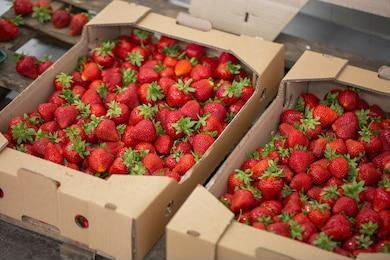Fresa: (353, 203, 384, 236), (308, 102, 341, 131), (163, 81, 196, 109), (92, 116, 122, 146), (125, 101, 157, 129), (40, 139, 68, 170), (333, 109, 361, 140), (12, 52, 41, 81), (129, 117, 160, 144), (286, 146, 312, 177), (66, 10, 95, 37), (190, 129, 217, 158), (87, 145, 114, 174), (228, 185, 257, 212), (330, 192, 357, 221), (114, 85, 143, 111), (337, 84, 363, 113), (327, 153, 352, 183), (51, 104, 79, 128), (341, 137, 366, 162), (134, 64, 165, 84), (80, 60, 103, 85)
